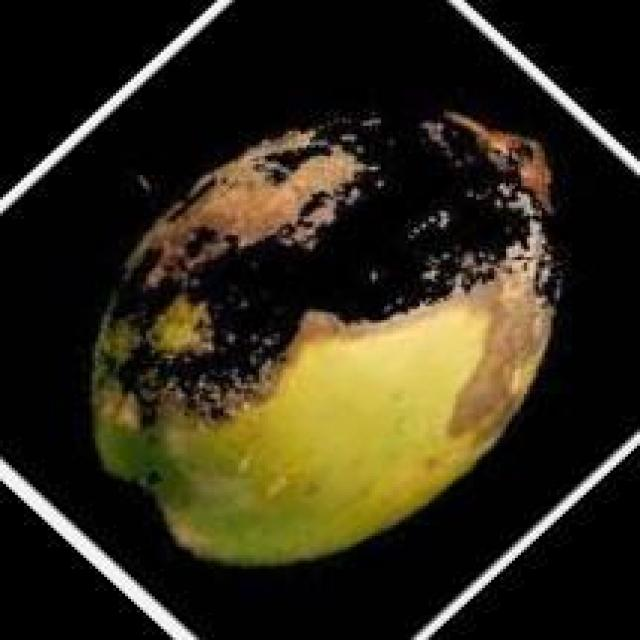damaged: (86, 85, 575, 574)
